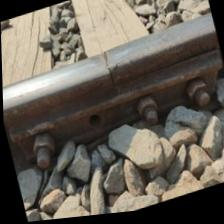person: (65, 24, 154, 118)
